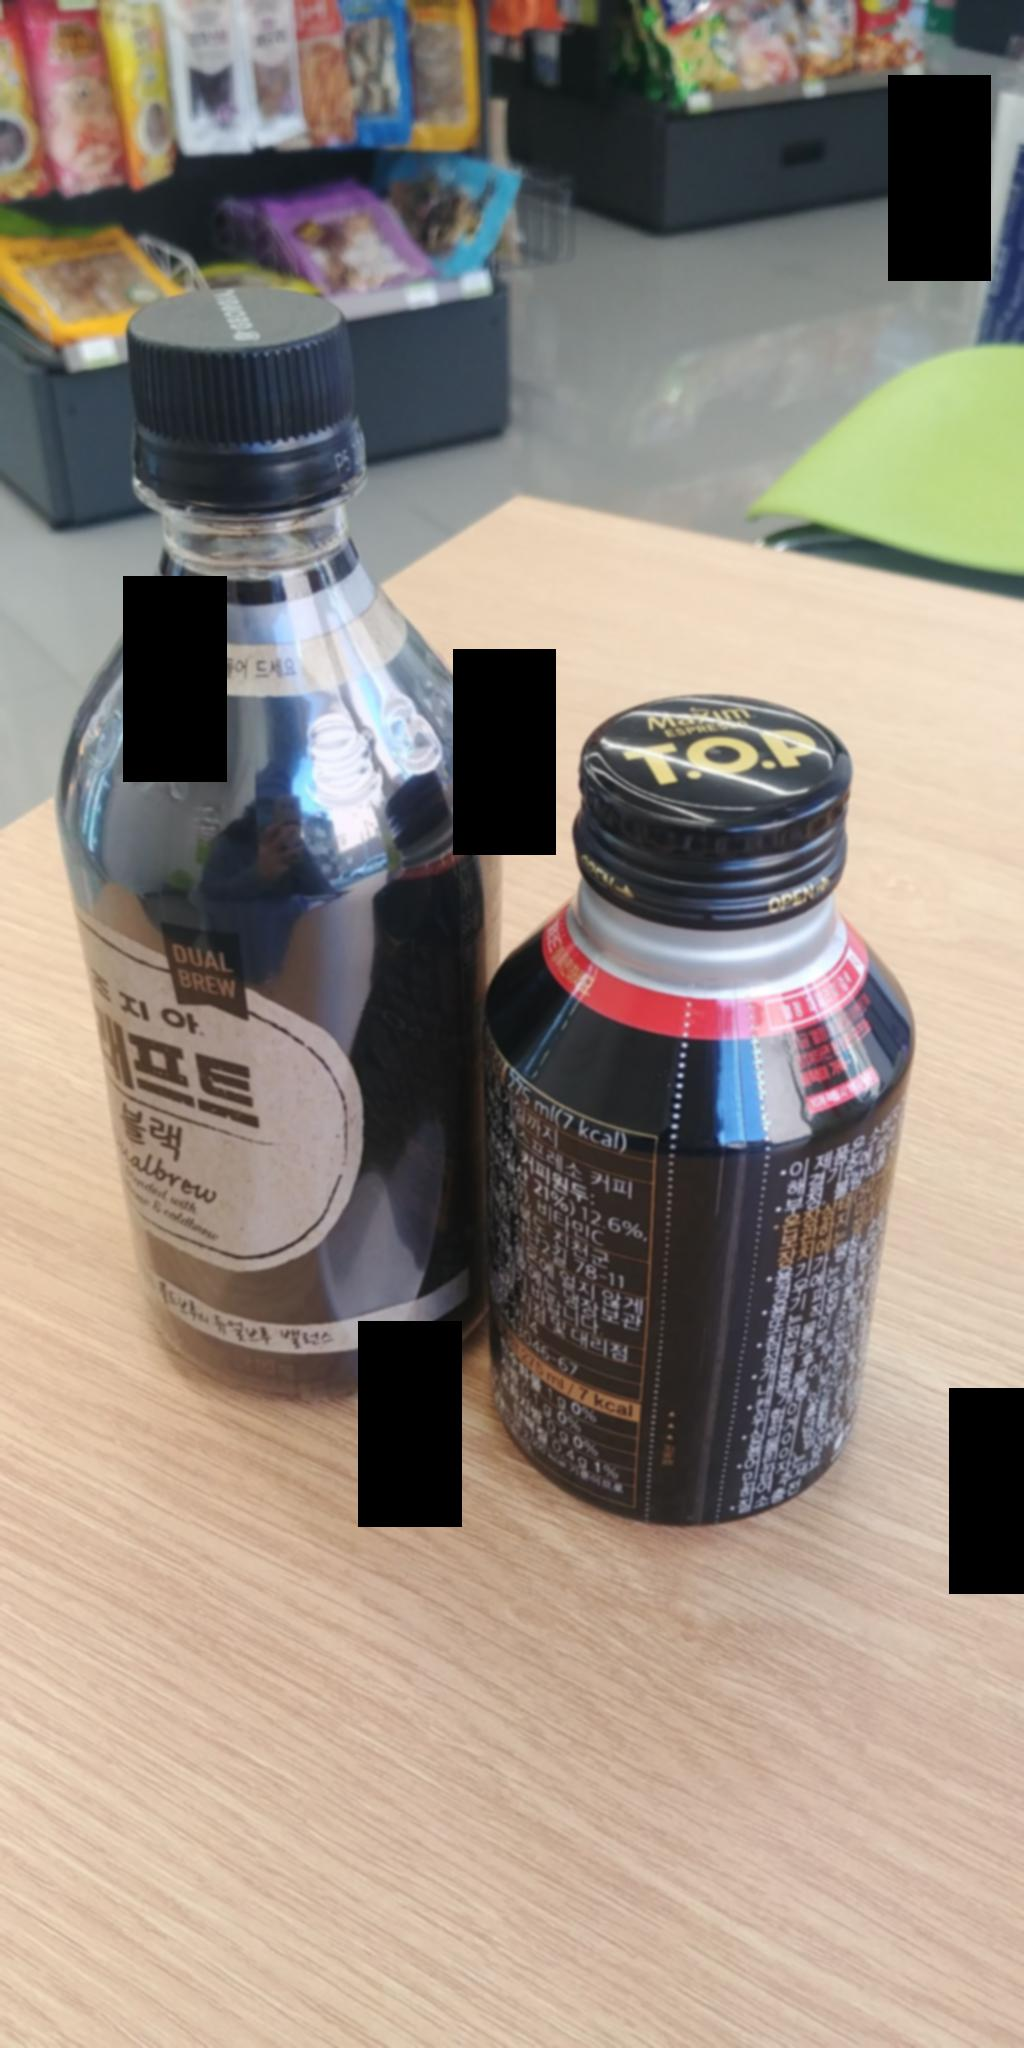TOP_black: (499, 644, 930, 1552)
georgiacraft_black: (55, 270, 499, 1399)
